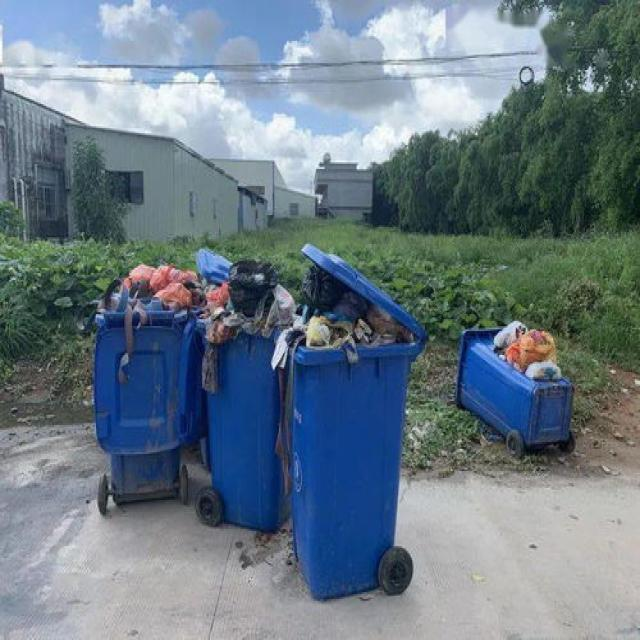garbage: (492, 316, 560, 379)
overflow: (284, 244, 406, 597), (194, 256, 292, 527), (92, 263, 195, 497)
